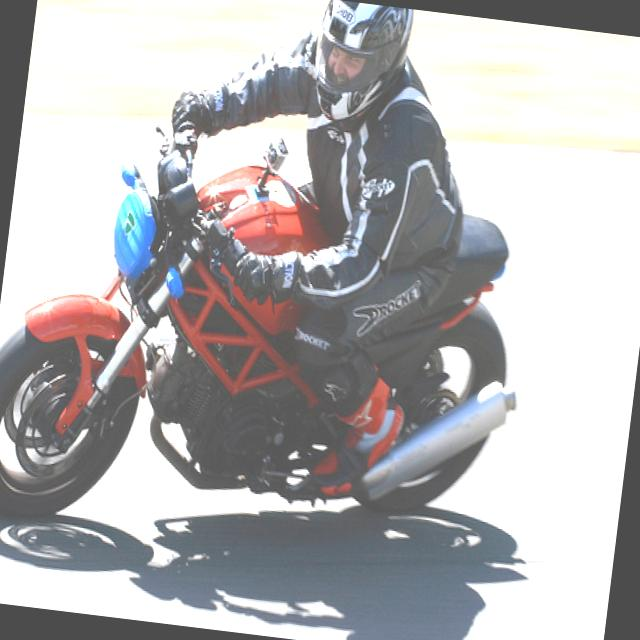Vehicle: (0, 100, 543, 577)
